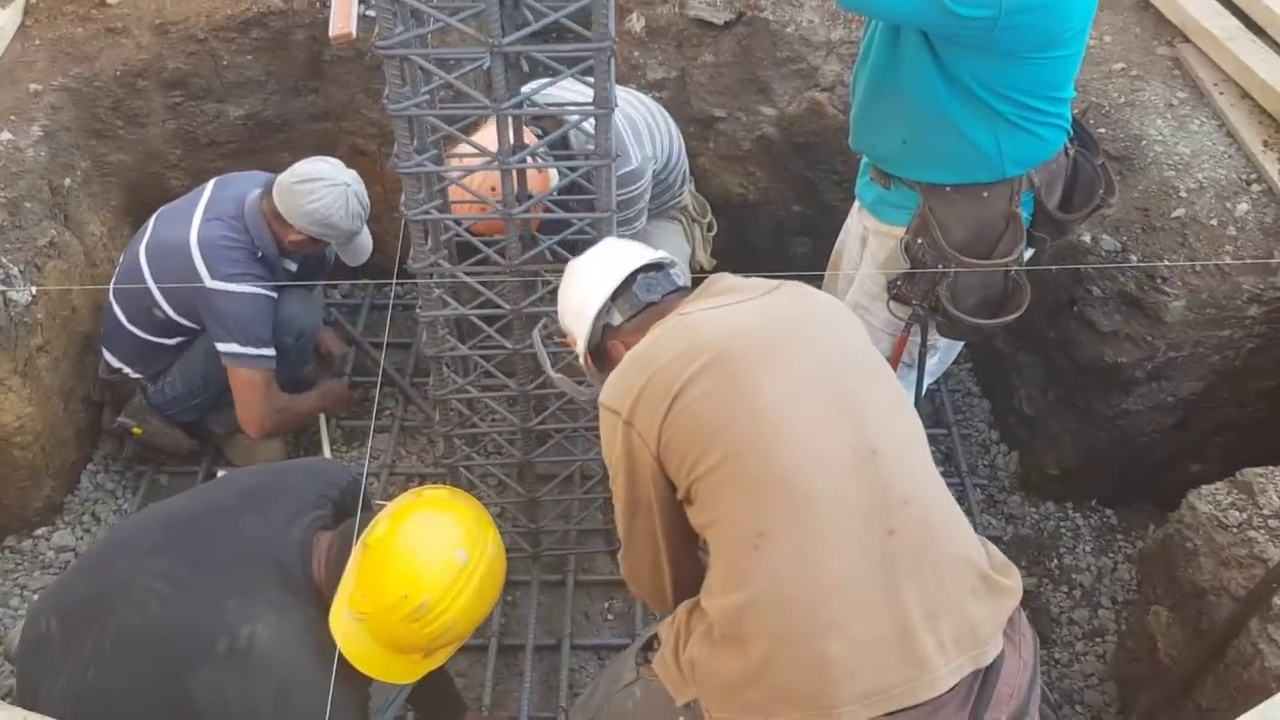helmet: (320, 484, 504, 679), (563, 222, 676, 376), (447, 125, 559, 225)
helmet-off: (257, 154, 371, 267)
helmet-on: (283, 484, 506, 683), (559, 231, 717, 395), (444, 106, 582, 231)
person: (553, 232, 1046, 718), (0, 444, 529, 720), (821, 2, 1096, 405), (96, 133, 402, 466), (442, 69, 694, 245)
